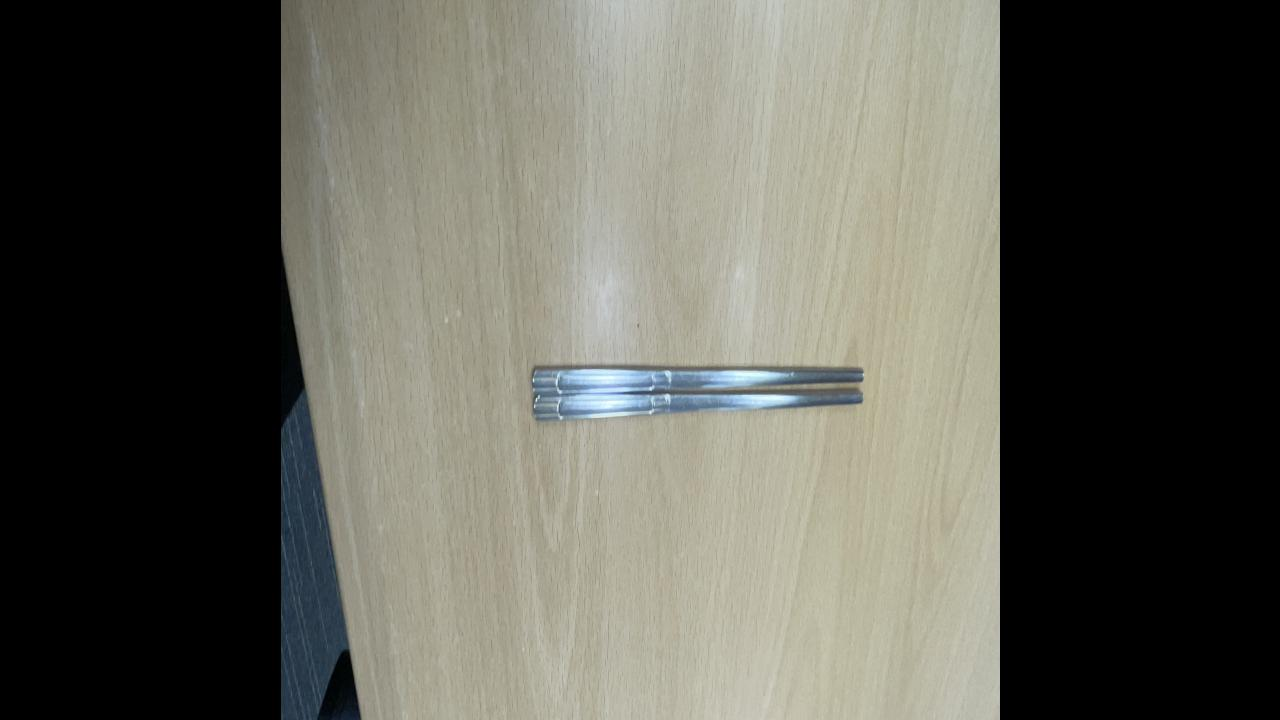chopstick: (531, 365, 866, 425)
